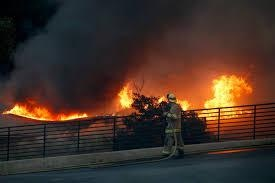fire: (2, 98, 90, 122), (115, 82, 137, 112)
